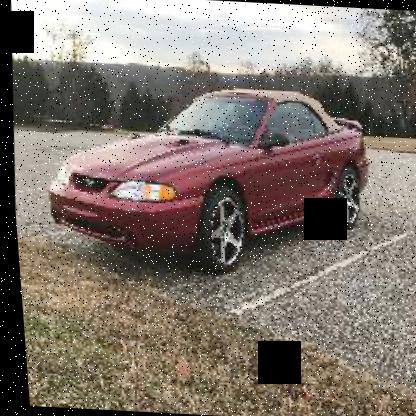not_emergency: (17, 66, 387, 253)
